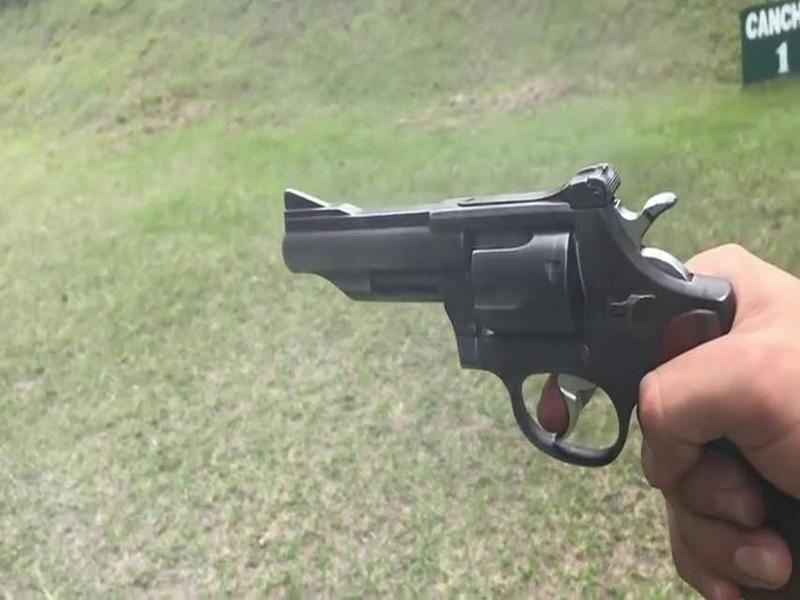Revolver: (275, 165, 738, 488)
